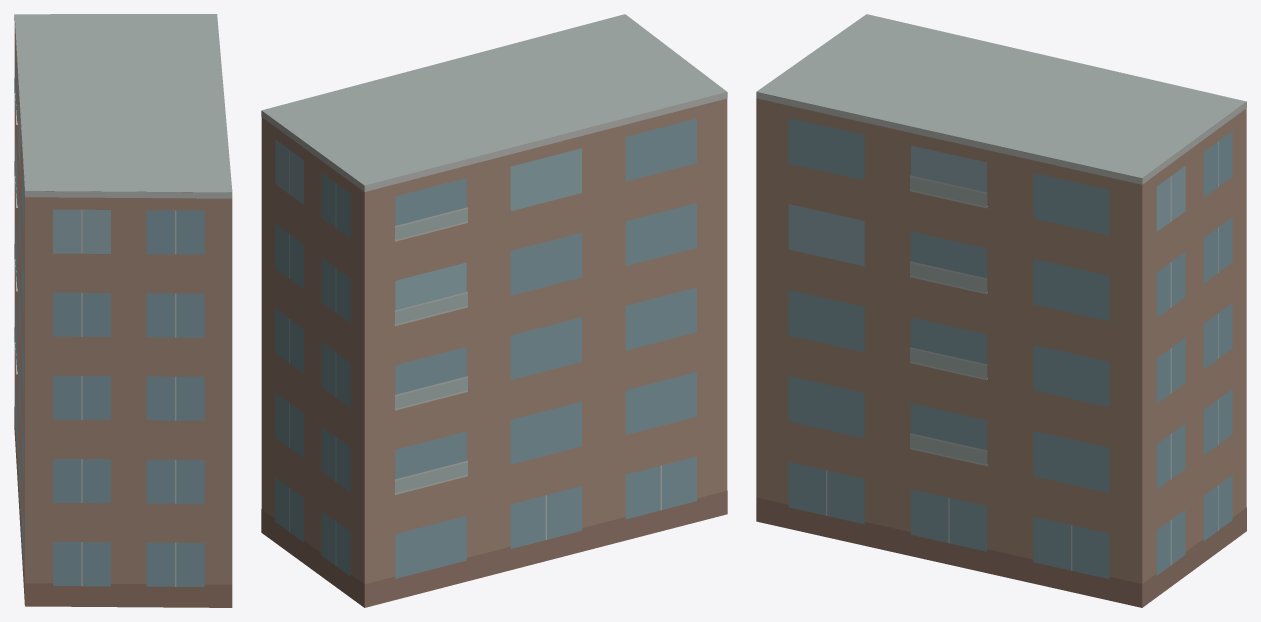
The model's file is survey-upis-32876842.glb.
3 views of the same model, side by side, from view 1: azimuth 30°, elevation 25°; view 2: azimuth 150°, elevation 25°; view 3: azimuth 270°, elevation 25° (orthographic). The views are drawn at different scales.
Visible parts, largest first — view 1: survey-upis-32876842.tmp; view 2: survey-upis-32876842.tmp; view 3: survey-upis-32876842.tmp.
Part boxes in pixels (x1,y1,x2,y2): survey-upis-32876842.tmp: (14,14,232,607); survey-upis-32876842.tmp: (261,14,727,607); survey-upis-32876842.tmp: (756,14,1246,607).
Bounding box in the file's own units: 13.12 × 16 × 16.56.
